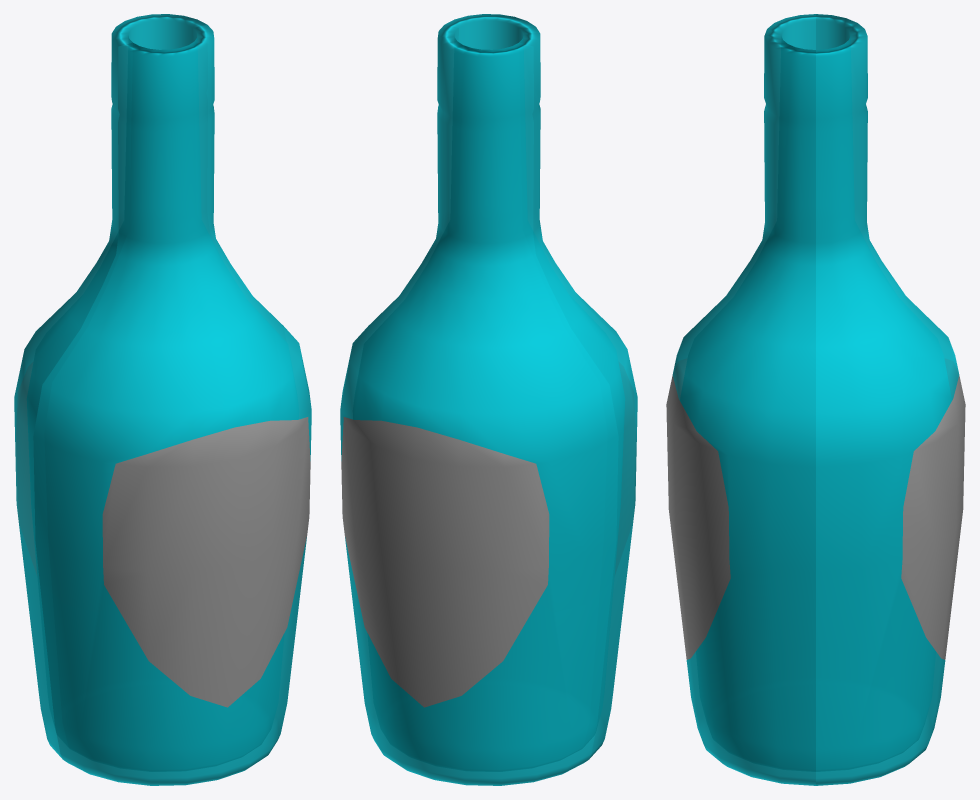
File: Bottle3.fbx
3 views of the same model, side by side, from view 1: azimuth 30°, elevation 25°; view 2: azimuth 150°, elevation 25°; view 3: azimuth 270°, elevation 25° (orthographic).
Parts seen in each view (by area): view 1: Bottlethree; view 2: Bottlethree; view 3: Bottlethree.
Boxes of the visible parts, x1,y1,x2,y2 form: Bottlethree: (14, 14, 311, 785); Bottlethree: (340, 14, 637, 785); Bottlethree: (666, 14, 965, 785).
Bounding box in the file's own units: 3.62 × 9.41 × 3.62.
